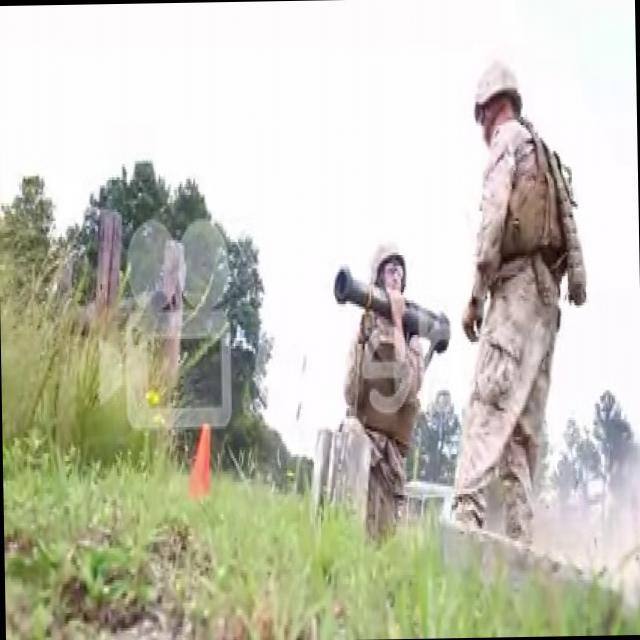rocket: (332, 258, 454, 352)
